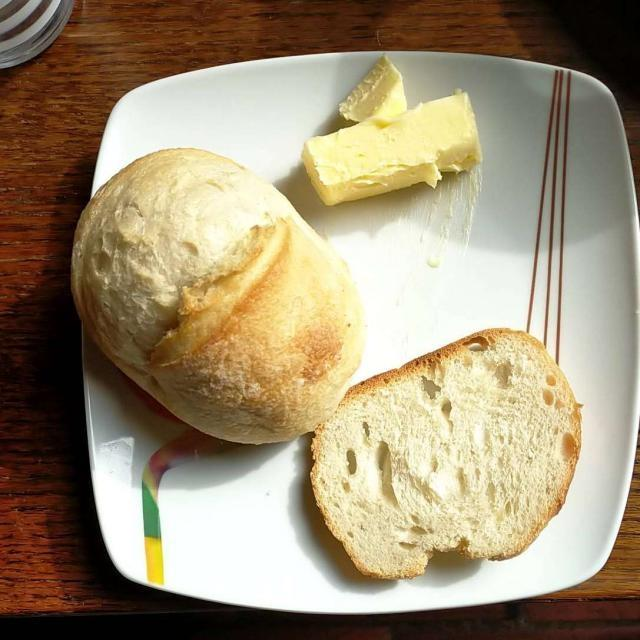bread: (94, 150, 571, 571)
butter: (305, 63, 478, 205)
